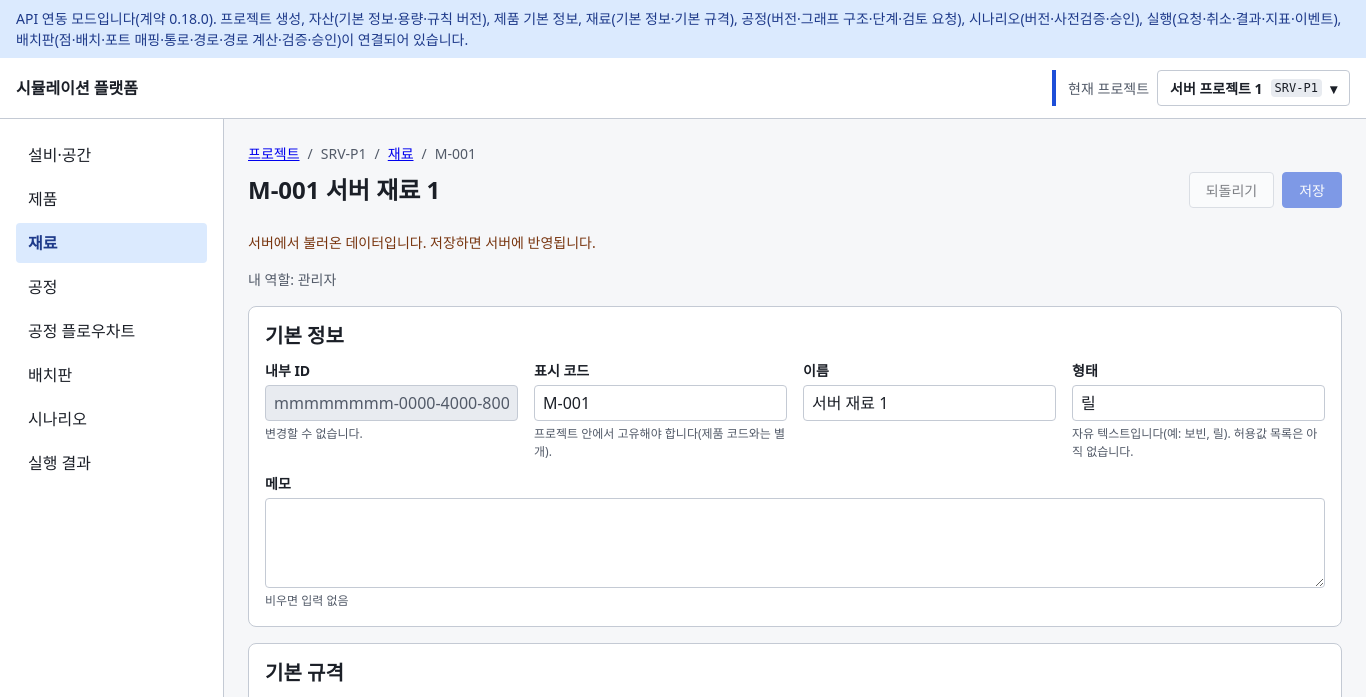
Test: 재료 저장 (PATCH) › 저장 중에는 버튼이 비활성이고 연속 클릭해도 한 번만 보낸다
Expected: the heading "M-001 서버 재료 1" is shown, [248,175,440,205]
Expected: the text "내 역할: 관리자" is shown, [248,270,336,289]
Step 1. Clear the field labelled "이름" → (930, 403), box [803,385,1056,421]
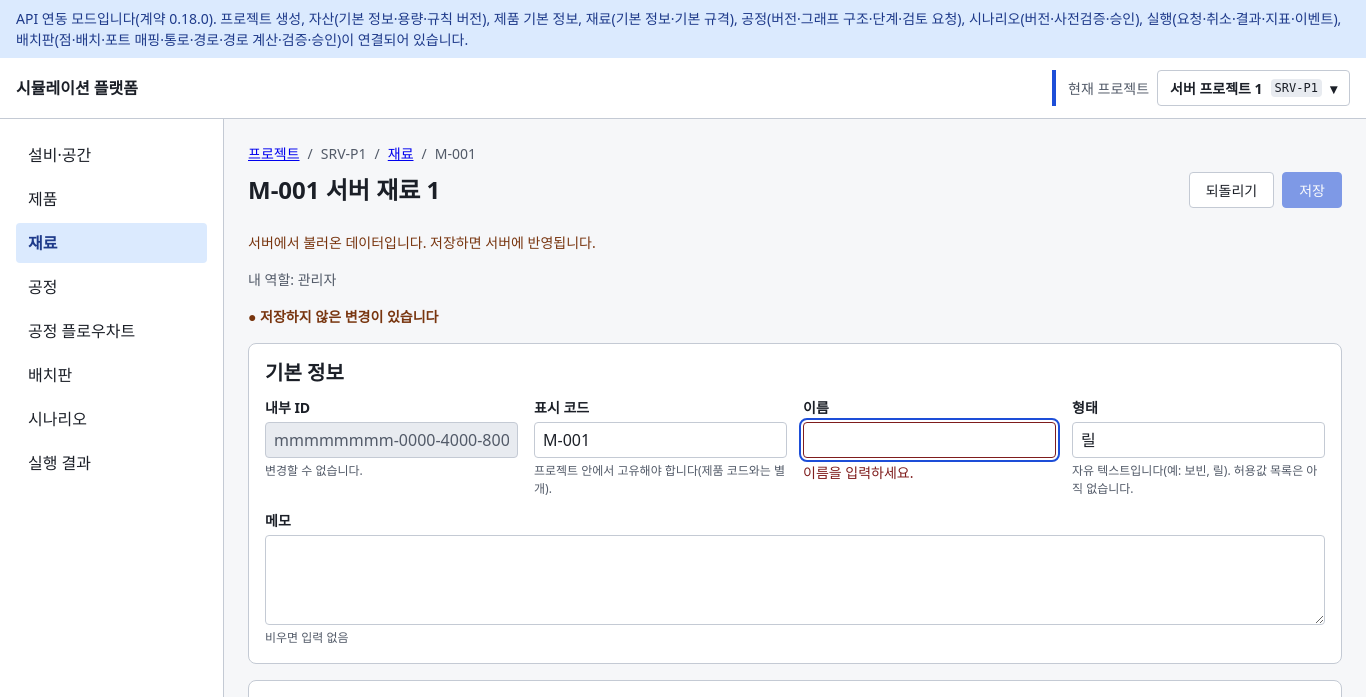
Step 2. Type "Z" into the field labelled "이름" → (930, 440), box [803,422,1056,458]
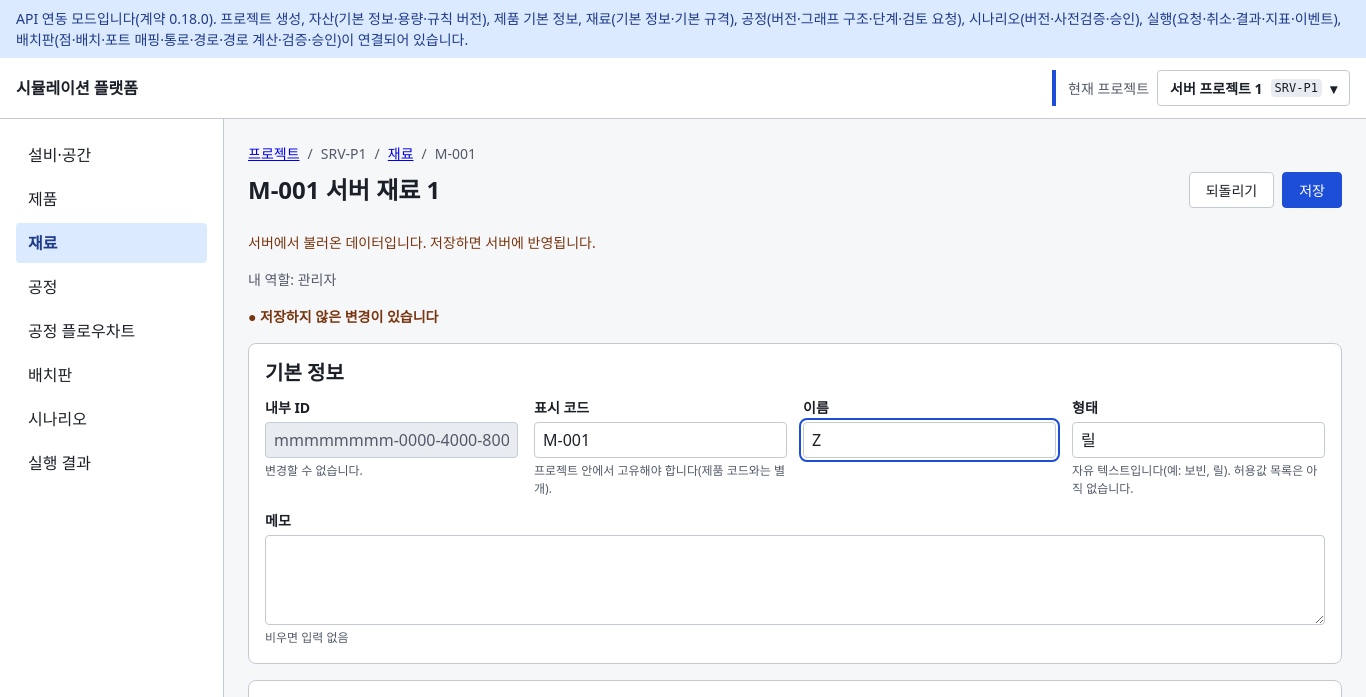
Step 3. Double-click the button "저장" → (1312, 190), box [1282,172,1342,208]
(page scrolled)
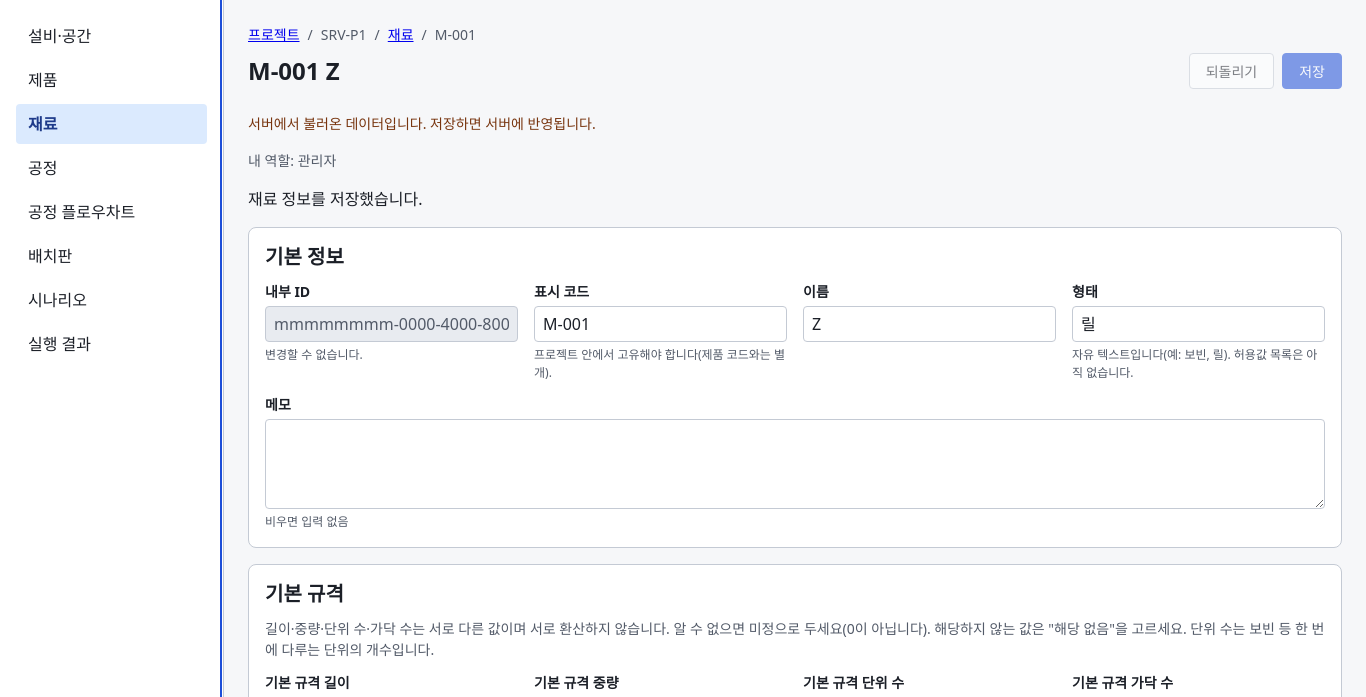
Result: the button named "저장 중…" is disabled at [1282,53,1342,89]
Result: the text "재료 정보를 저장했습니다." is shown at [248,188,422,210]
